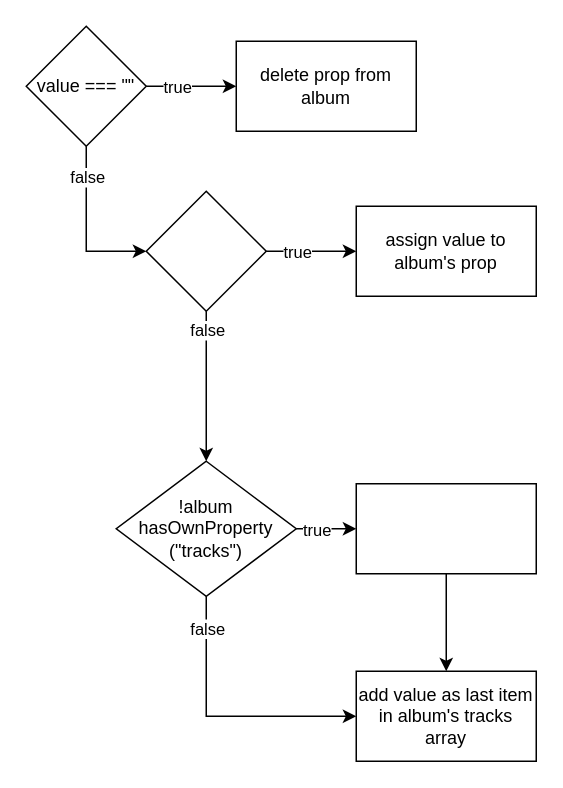
Image size: 563x788. Some labels were removed from this diagram. The centre of each missing label's shape, as x and y in pixels:
create property with name tracks and value empty array: the point at 445,528
prop !== "tracks": the point at 205,250
